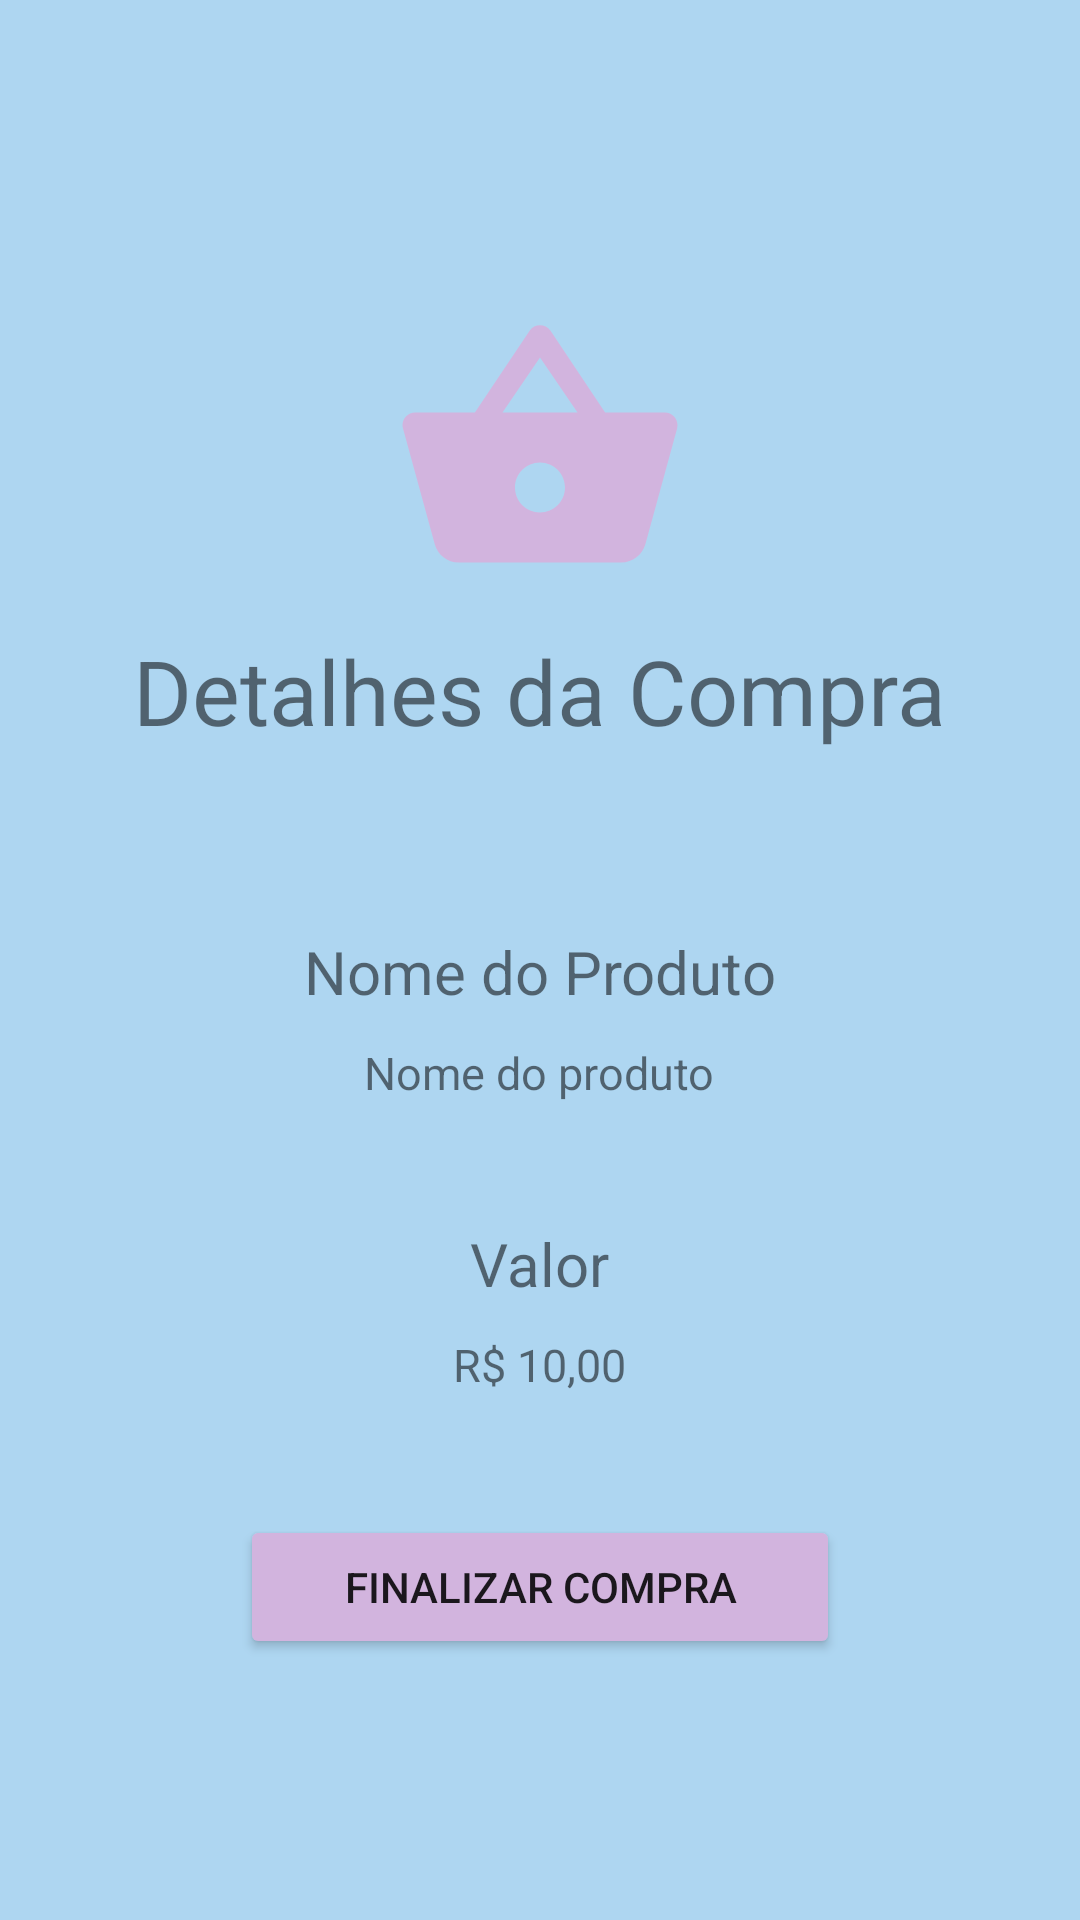

Icons on this 1080 x 1920 Android screen, each with the point to tap as [x,y]:
shopping basket: [540,443]
